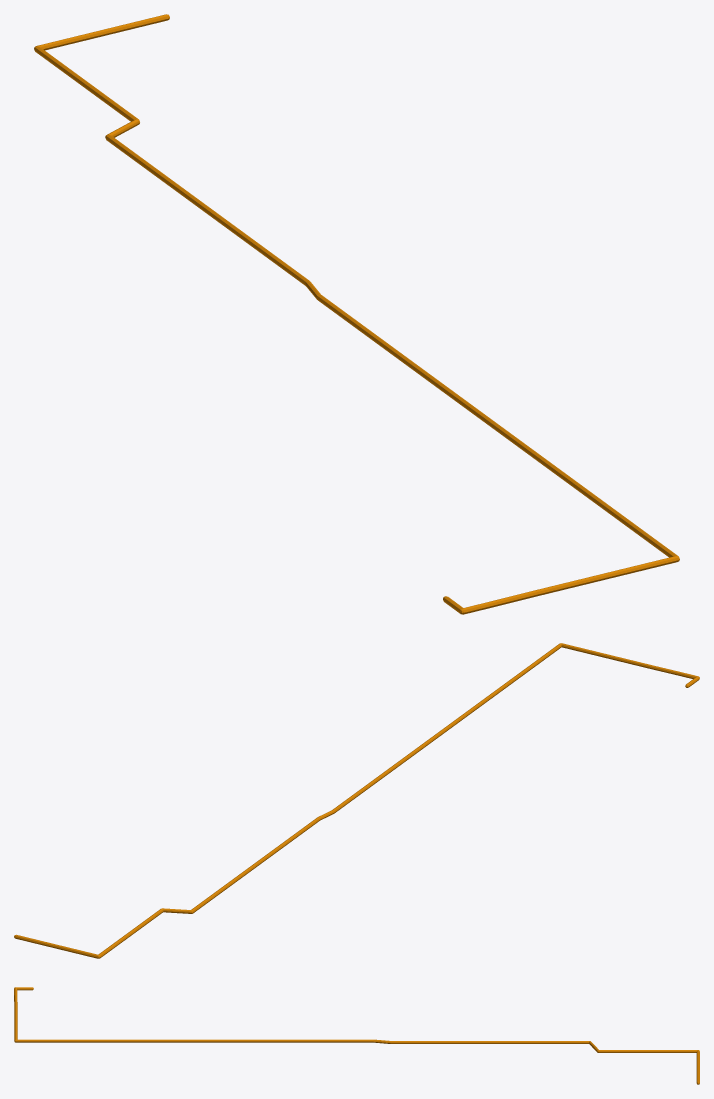
The picture shows the model from 3 angles, top to bottom: view 1: azimuth 30°, elevation 25°; view 2: azimuth 150°, elevation 25°; view 3: azimuth 270°, elevation 25°; orthographic projection. The views are drawn at different scales.
Bounding box in the file's own units: 1363 × 20 × 4124.
